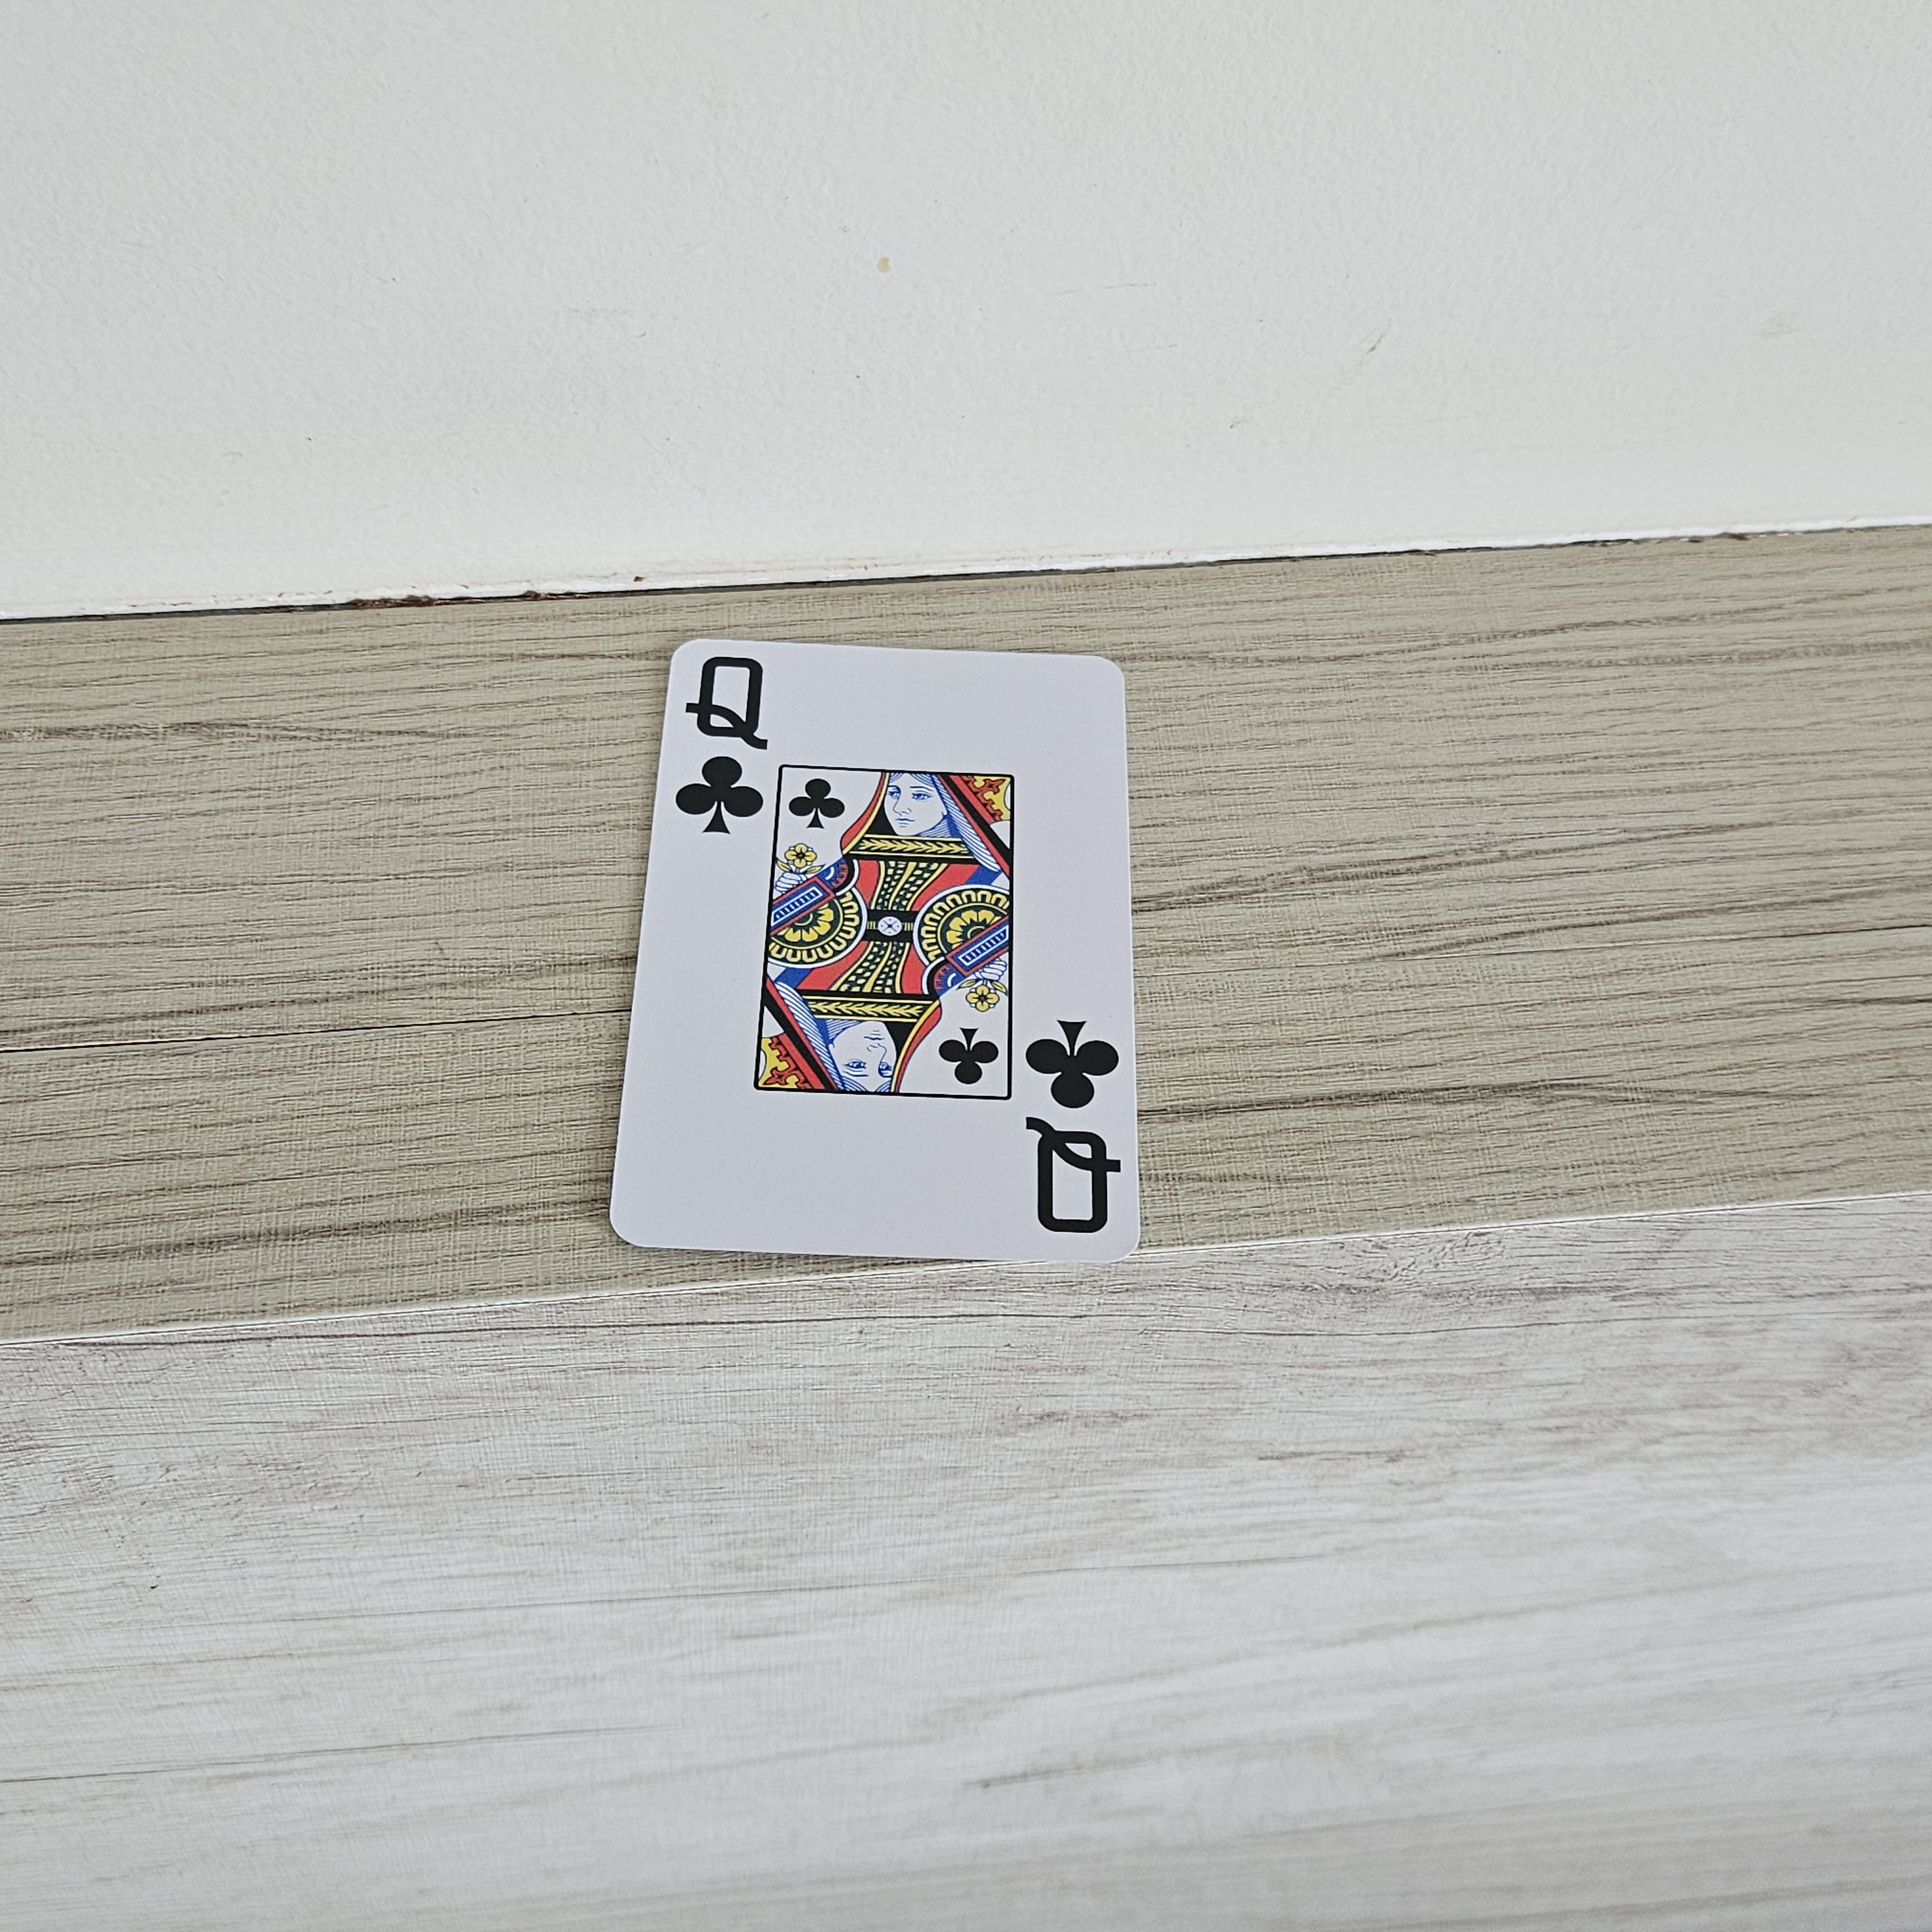QP: (1003, 1003, 1145, 1254), (663, 639, 782, 846)
